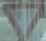Give way: (3, 1, 43, 40)
